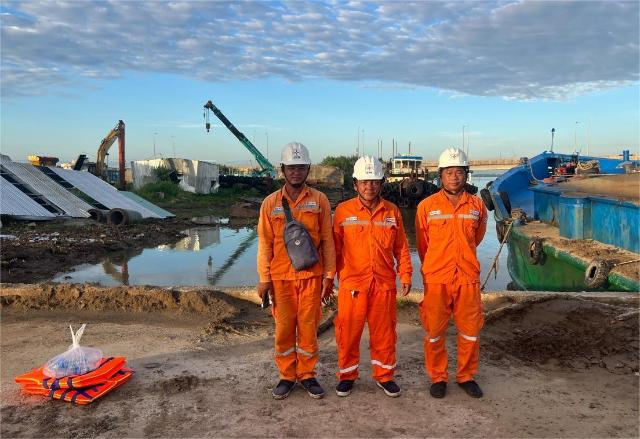helmet: (273, 139, 315, 168), (346, 158, 391, 181), (437, 143, 474, 170)
shoes: (266, 370, 299, 406), (374, 374, 403, 400), (335, 372, 361, 400), (456, 376, 486, 400), (424, 374, 450, 401), (297, 373, 318, 399)
